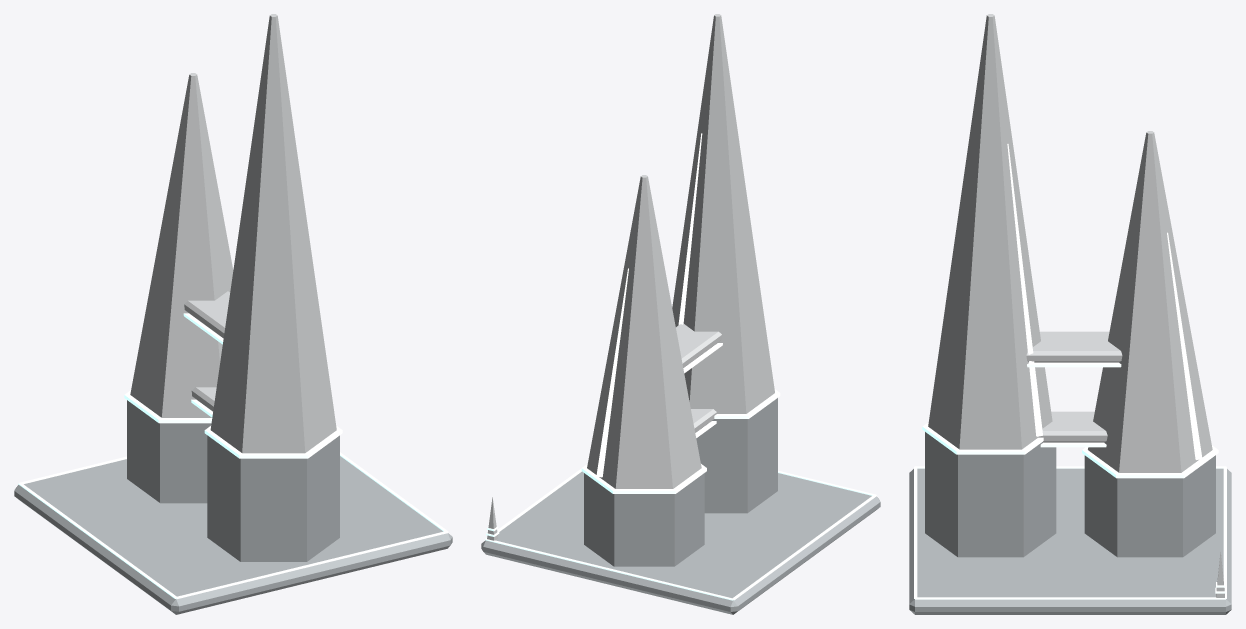
File: zone_high_6_t2.glb
3 renders of one model, left to right at view 1: azimuth 30°, elevation 25°; view 2: azimuth 150°, elevation 25°; view 3: azimuth 270°, elevation 25°, orthographic. The views are drawn at different scales.
Visible parts, largest first — view 1: zone_high_6_t2, detail; view 2: zone_high_6_t2, detail; view 3: zone_high_6_t2, detail.
Part boxes in pixels (x1,y1,x2,y2): zone_high_6_t2: [14, 14, 452, 614]; detail: [18, 452, 448, 599]; zone_high_6_t2: [481, 14, 880, 614]; detail: [485, 468, 876, 600]; zone_high_6_t2: [909, 14, 1231, 614]; detail: [914, 466, 1226, 599].
Size of the model in its own units: 27.5 by 50.22 by 27.5.
